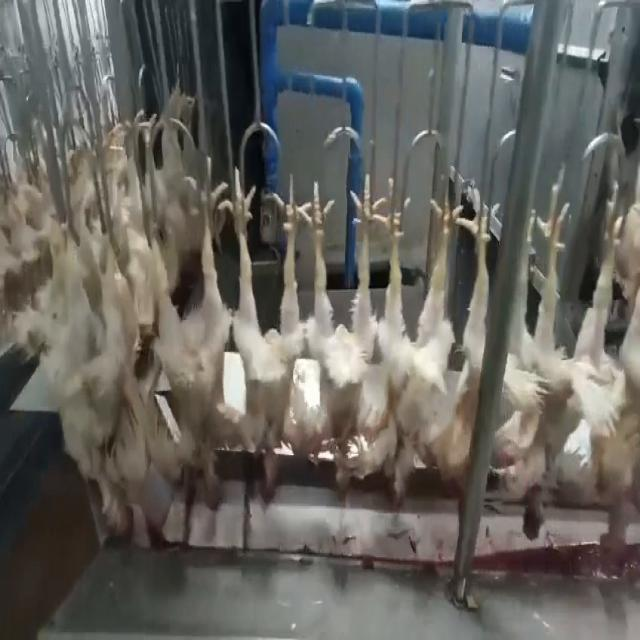chicken: (140, 161, 224, 511), (231, 166, 314, 505), (498, 189, 575, 545), (298, 173, 378, 496), (377, 180, 455, 503), (585, 191, 640, 581)
